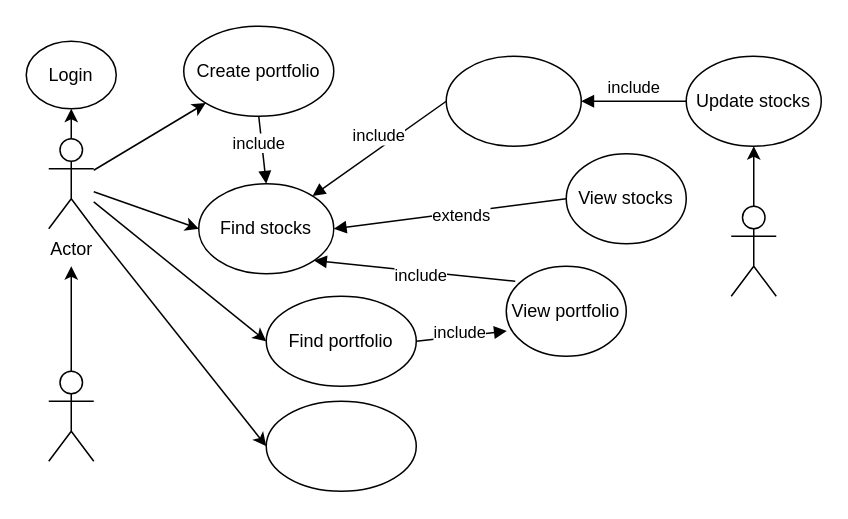
Some shapes in this 848 by 519 pixel diagram are drawn without their labels. The shapes that lost their labels are listed below. From the top down, each one's centre as x and y in pixels, then its label:
the point at 513,100: Browse stocks
the point at 753,250: DBupdater
the point at 70,415: Admin
the point at 340,445: Add/delete stock *
